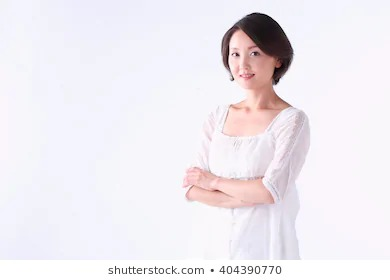S_blouse: (166, 97, 318, 257)
